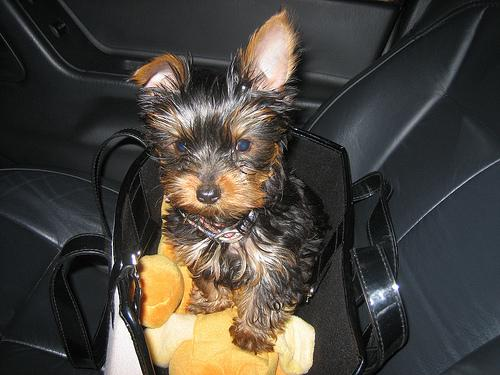dog-yorkshire_terrier: (134, 12, 292, 215)
